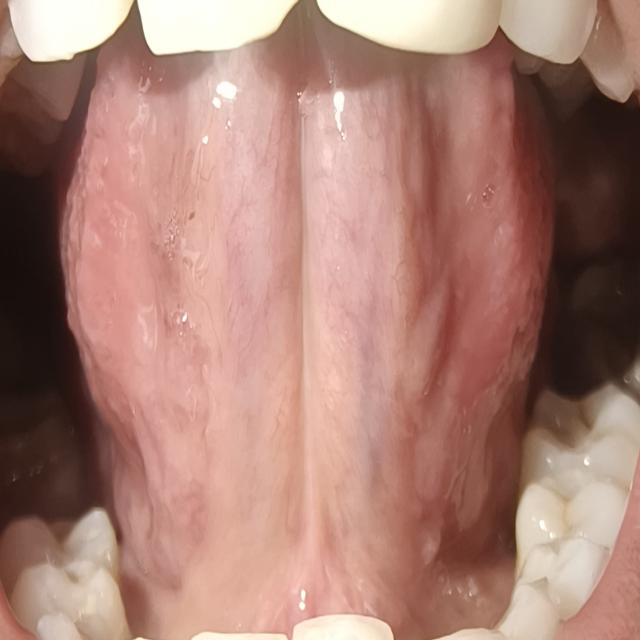processing_area: (66, 37, 539, 629)
